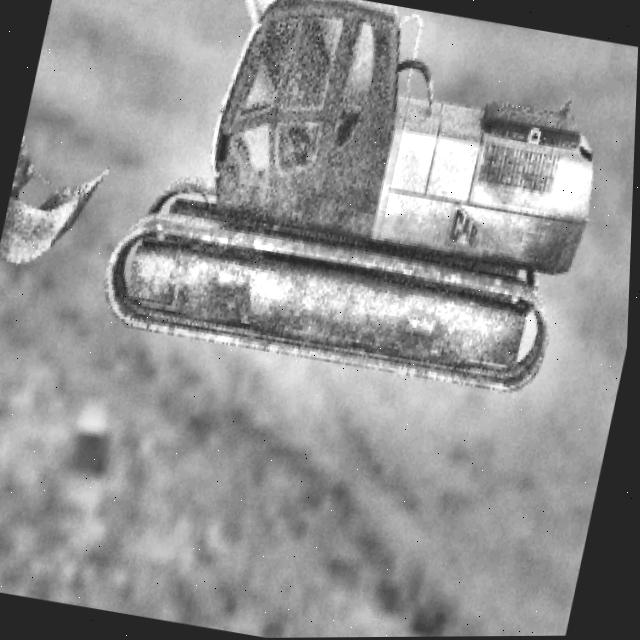excavator: (0, 0, 623, 400)
